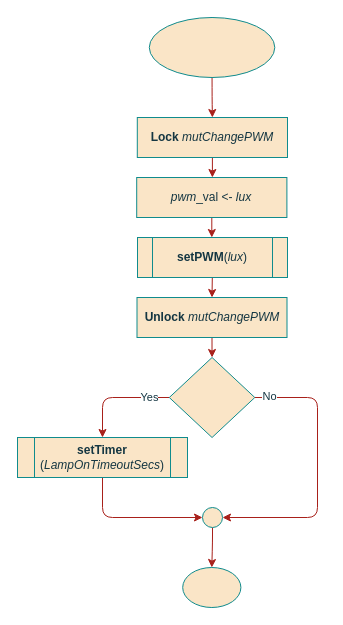
Some shapes in this 343 by 625 pixel diagram are drawn without their labels. Each missing label, with the box of its shape:
End: (182, 566, 241, 608)
PWM is maximum ?: (168, 356, 255, 438)
setBrightness IN: lux: (148, 16, 275, 78)
